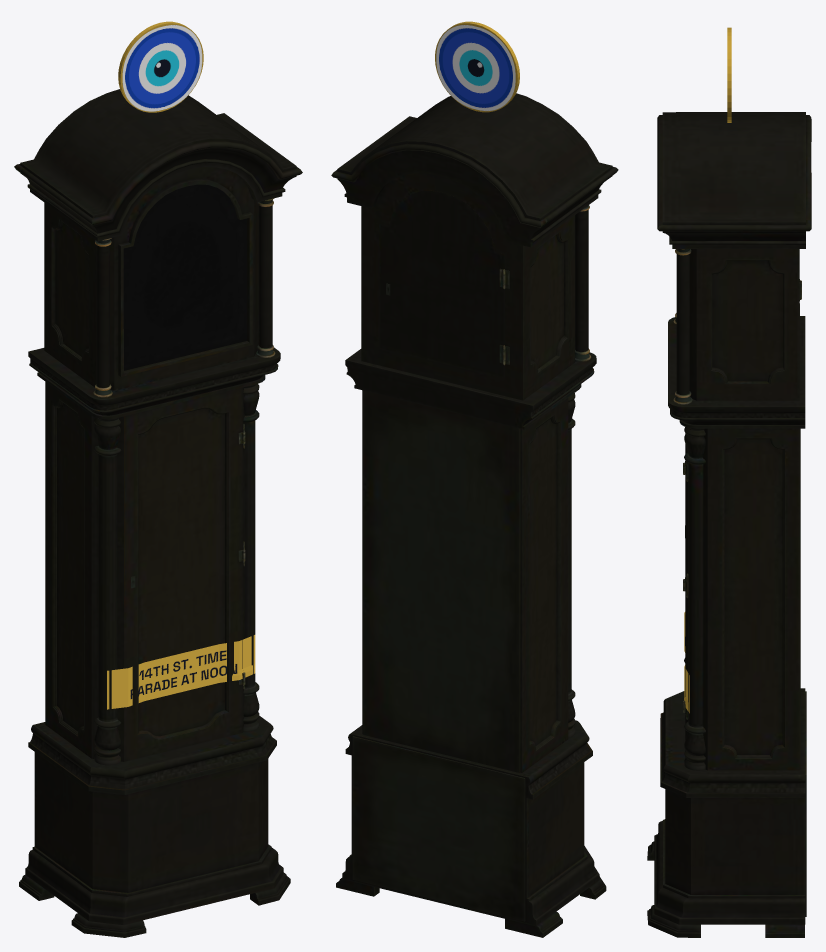
File: nyb_dolly_clock.glb
The picture shows the model from 3 angles, left to right: view 1: azimuth 30°, elevation 25°; view 2: azimuth 150°, elevation 25°; view 3: azimuth 270°, elevation 25°; orthographic projection.
Visible parts, largest first — view 1: vintage_grandfather_clock_01_body, add_nazar_die.png, stk_lbl_0a171cb0db.png, Cylinder; view 2: vintage_grandfather_clock_01_body, add_nazar_die.png, Cylinder; view 3: vintage_grandfather_clock_01_body, Cylinder.
Boxes of the visible parts, x1,y1,x2,y2 form: vintage_grandfather_clock_01_body: (14, 89, 302, 937); add_nazar_die.png: (122, 25, 202, 111); stk_lbl_0a171cb0db.png: (107, 635, 255, 709); Cylinder: (118, 21, 203, 112); vintage_grandfather_clock_01_body: (331, 93, 618, 937); add_nazar_die.png: (436, 25, 515, 111); Cylinder: (435, 21, 519, 112); vintage_grandfather_clock_01_body: (647, 112, 811, 937); Cylinder: (727, 27, 731, 122).
Size of the model in its own units: 0.6256 by 2.45 by 0.4267.
Materials: 5 (4 with a texture image).
